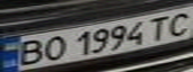1: (69, 28, 93, 56)
4: (124, 18, 151, 46)
9: (106, 22, 130, 51), (90, 25, 112, 54)
B: (9, 37, 48, 67)
C: (160, 8, 193, 37)
O: (36, 34, 69, 62)
T: (142, 13, 175, 42)
